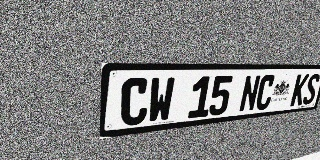1: (188, 76, 214, 119)
5: (208, 76, 233, 116)
C: (120, 77, 150, 127), (254, 75, 276, 111)
K: (290, 74, 310, 106)
N: (238, 75, 261, 113)
S: (302, 74, 320, 105)
W: (147, 77, 175, 123)
